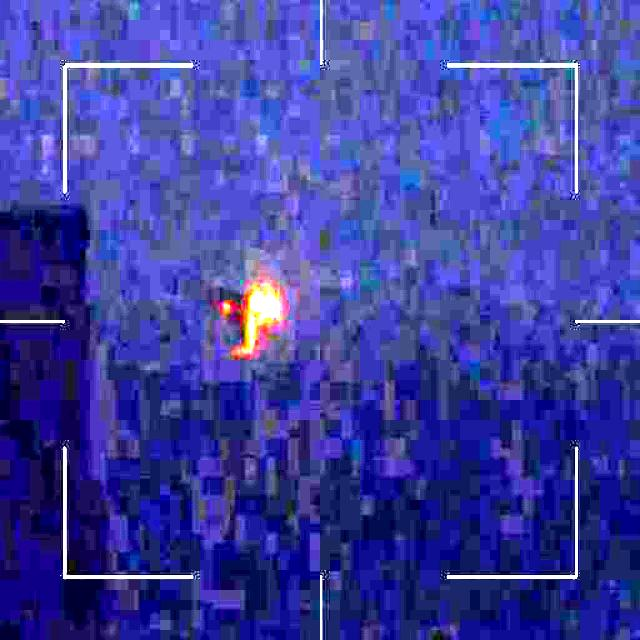bird: (201, 276, 279, 361)
